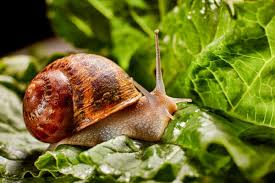snail: (20, 48, 182, 138)
